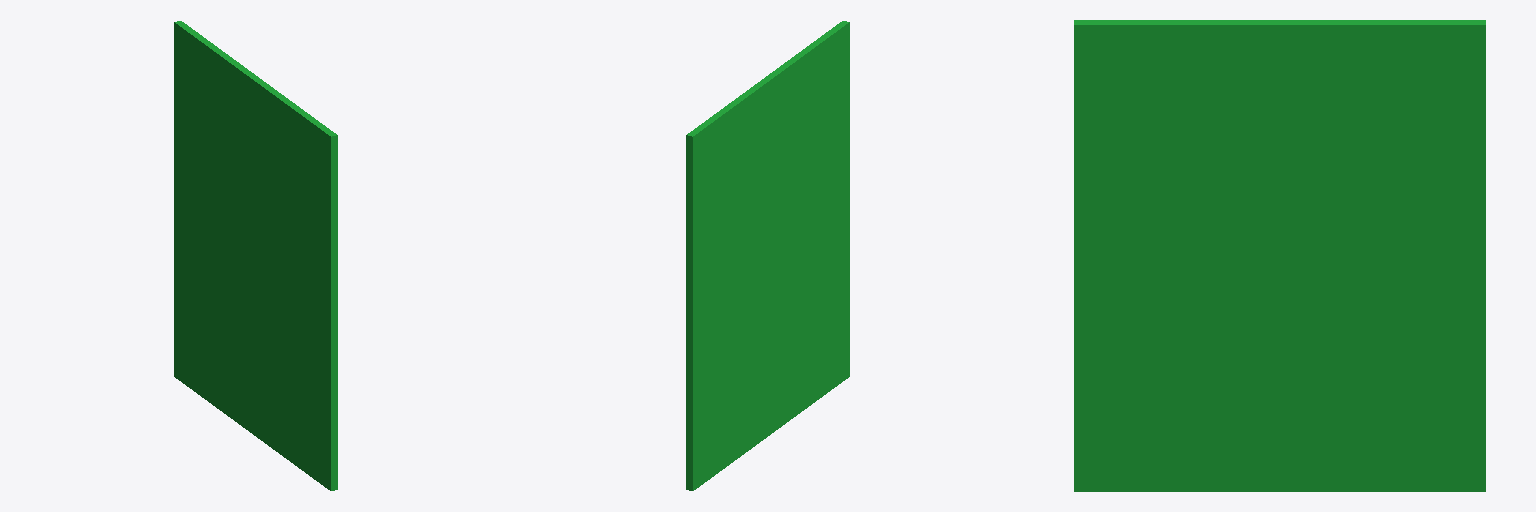
URDF robot description (board_green):
<?xml version="1.0"?>
<robot name="board_green">
  <material name="green">
    <color rgba="0.180 0.720 0.280 1.000"/>
  </material>

  <link name="base_link">
    <inertial>
      <mass value="1.0"/>
      <origin xyz="0 0 0.5" rpy="0 0 0"/>
      <inertia ixx="2.17" ixy="0" ixz="0" iyy="0.083" iyz="0" izz="2.08"/>
    </inertial>

    <visual>
      <origin xyz="0 0 0.5" rpy="0 0 0"/>
      <geometry>
        <box size="0.02 0.8 1.0"/>
      </geometry>
      <material name="green"/>
    </visual>

    <collision>
      <origin xyz="0 0 0.5" rpy="0 0 0"/>
      <geometry>
        <box size="0.02 0.8 1.0"/>
      </geometry>
    </collision>
  </link>
</robot>

--- Render facts (derived) ---
3 views of the same robot in one strip: view 1: azimuth 30°, elevation 25°; view 2: azimuth 150°, elevation 25°; view 3: azimuth 270°, elevation 25° (orthographic).
Model board_green with 1 links and 0 joints (none), rooted at base_link, posed all joints at 0.
Links seen in each view (by area): view 1: base_link; view 2: base_link; view 3: base_link.
Boxes of the visible links, x1,y1,x2,y2 form: base_link: (174,21,337,490); base_link: (686,21,849,490); base_link: (1074,20,1485,491).
Size in the robot's own frame: 0.02 by 0.8 by 1 metres.
Geometry: primitives only (box / cylinder / sphere), no mesh files.
